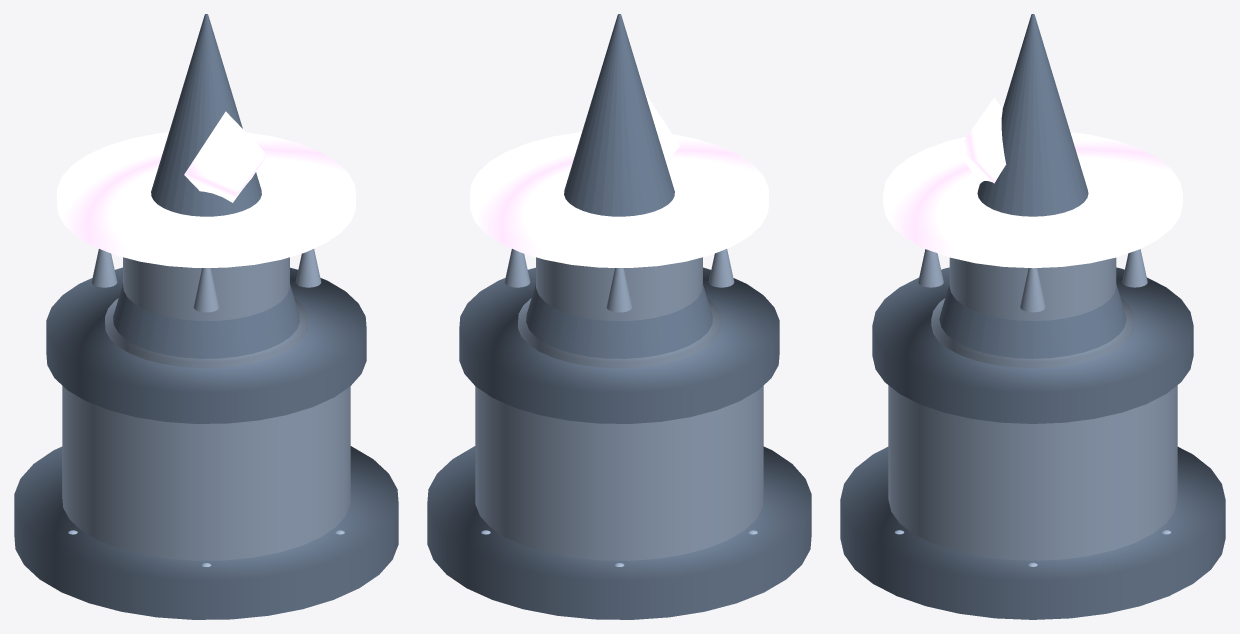
Rendered from void_l4.glb.
3 views of the same model, side by side, from view 1: azimuth 30°, elevation 25°; view 2: azimuth 150°, elevation 25°; view 3: azimuth 270°, elevation 25° (orthographic).
Visible parts, largest first — view 1: base, footing, baseCollar, spinRing, obelisk, shaft, spinCrystal, lowerTrim, VoidLowerShard2, VoidLowerShard3, VoidLowerShard1; view 2: base, footing, baseCollar, spinRing, obelisk, shaft, lowerTrim, VoidLowerShard4, VoidLowerShard3, VoidLowerShard5, spinCrystal; view 3: base, footing, baseCollar, spinRing, obelisk, shaft, lowerTrim, spinCrystal, VoidLowerShard0, VoidLowerShard1, VoidLowerShard5.
Boxes of the visible parts, x1,y1,x2,y2 form: base: [62, 386, 350, 560]; footing: [14, 446, 398, 619]; baseCollar: [46, 267, 366, 423]; spinRing: [57, 132, 355, 267]; obelisk: [113, 14, 299, 358]; shaft: [123, 257, 289, 321]; spinCrystal: [184, 111, 267, 202]; lowerTrim: [105, 298, 307, 367]; VoidLowerShard2: [193, 268, 219, 312]; VoidLowerShard3: [91, 249, 117, 287]; VoidLowerShard1: [295, 249, 321, 287]; base: [475, 386, 763, 560]; footing: [427, 446, 811, 619]; baseCollar: [459, 267, 779, 423]; spinRing: [470, 132, 768, 267]; obelisk: [526, 14, 712, 358]; shaft: [536, 257, 702, 321]; lowerTrim: [518, 298, 720, 367]; VoidLowerShard4: [606, 268, 632, 312]; VoidLowerShard3: [708, 249, 734, 287]; VoidLowerShard5: [504, 249, 530, 287]; spinCrystal: [645, 93, 680, 161]; base: [888, 385, 1177, 560]; footing: [840, 447, 1225, 619]; baseCollar: [872, 267, 1193, 423]; spinRing: [883, 132, 1182, 268]; obelisk: [939, 14, 1126, 358]; shaft: [949, 257, 1116, 320]; lowerTrim: [931, 298, 1134, 367]; spinCrystal: [957, 97, 1006, 183]; VoidLowerShard0: [1020, 268, 1045, 312]; VoidLowerShard1: [918, 249, 943, 287]; VoidLowerShard5: [1122, 249, 1147, 287].
Size of the model in its own units: 1.8 by 2.7 by 1.8.
